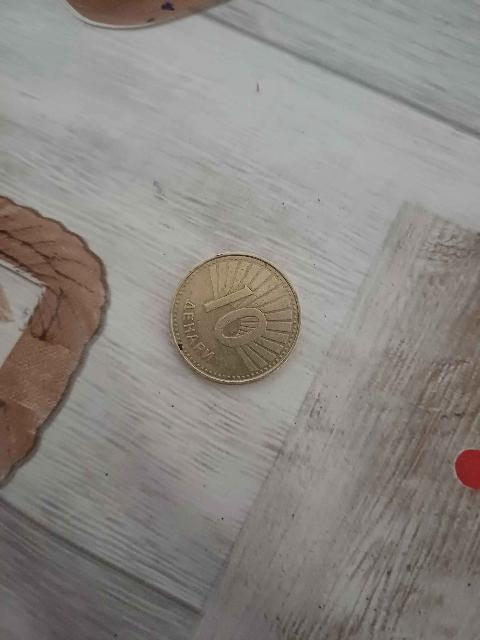10_coin: (171, 254, 300, 384)
